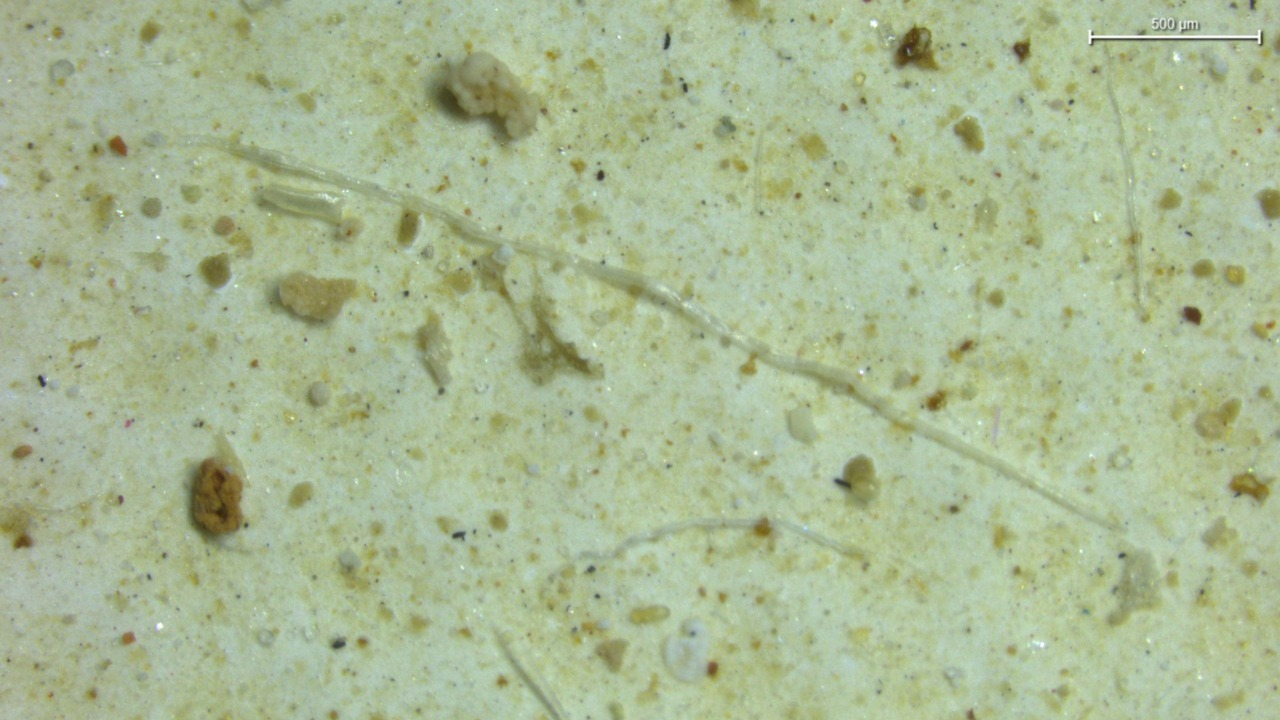microplastic_fragment: (447, 52, 541, 138), (192, 459, 243, 535), (279, 272, 356, 321), (259, 186, 343, 224), (417, 315, 452, 394)
